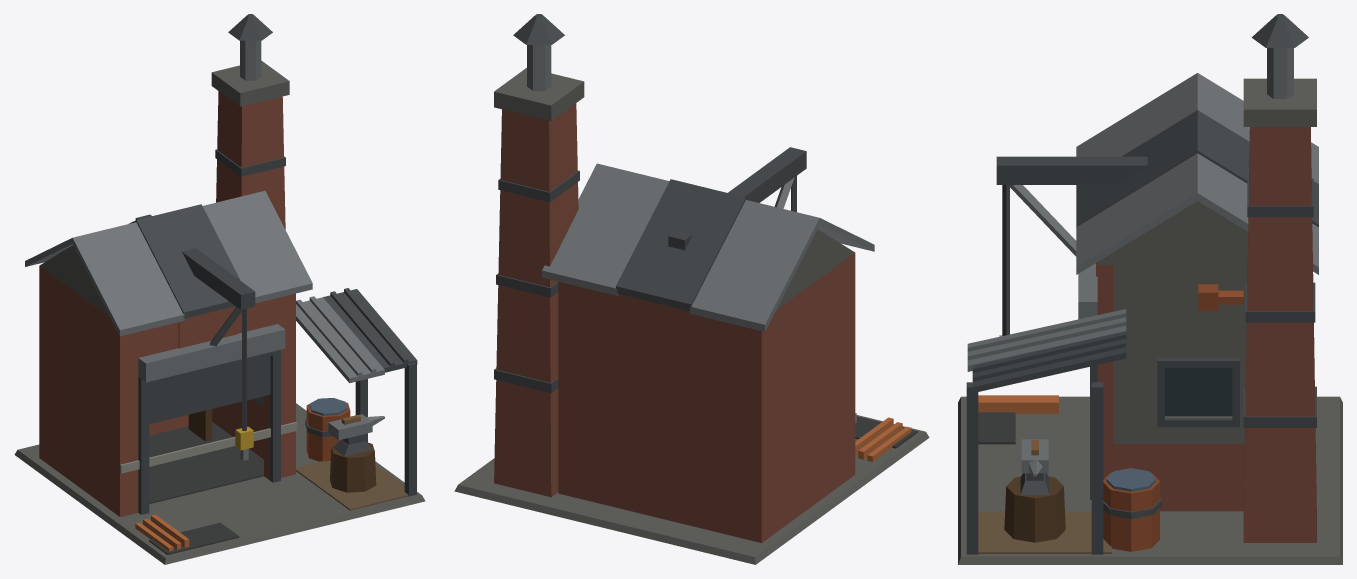
File: workshop_l2.glb
The picture shows the model from 3 angles, left to right: view 1: azimuth 30°, elevation 25°; view 2: azimuth 150°, elevation 25°; view 3: azimuth 270°, elevation 25°; orthographic projection. The views are drawn at different scales.
Parts seen in each view (by area): view 1: workshop_structure, workshop_roof, workshop_props; view 2: workshop_structure, workshop_roof, workshop_props; view 3: workshop_structure, workshop_roof, workshop_props.
Part boxes in pixels (left/top/right/bottom): workshop_structure: left=14, top=60, right=425, bottom=564; workshop_roof: left=25, top=190, right=417, bottom=383; workshop_props: left=120, top=14, right=384, bottom=551; workshop_structure: left=454, top=68, right=929, bottom=564; workshop_roof: left=542, top=163, right=874, bottom=331; workshop_props: left=513, top=14, right=911, bottom=461; workshop_structure: left=958, top=78, right=1342, bottom=564; workshop_roof: left=967, top=73, right=1318, bottom=392; workshop_props: left=978, top=14, right=1308, bottom=551.
Bounding box in the file's own units: 4 × 5.95 × 4.
